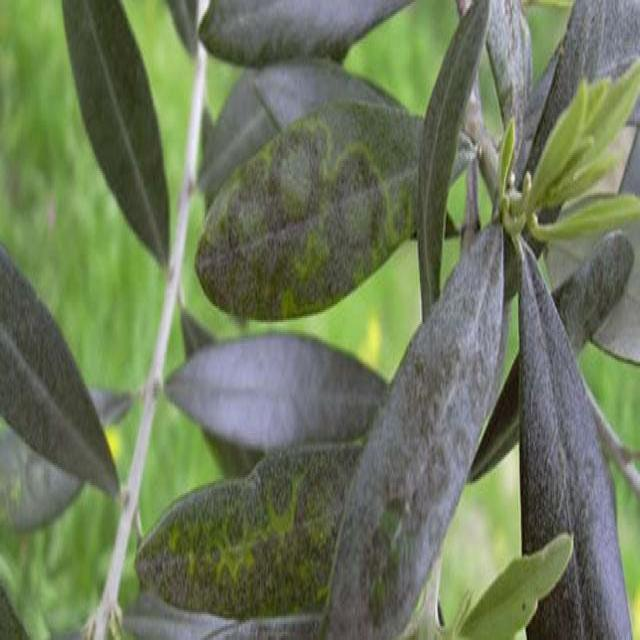OlivePeacockSpot: (319, 225, 503, 638), (196, 101, 423, 318), (135, 439, 364, 620)
